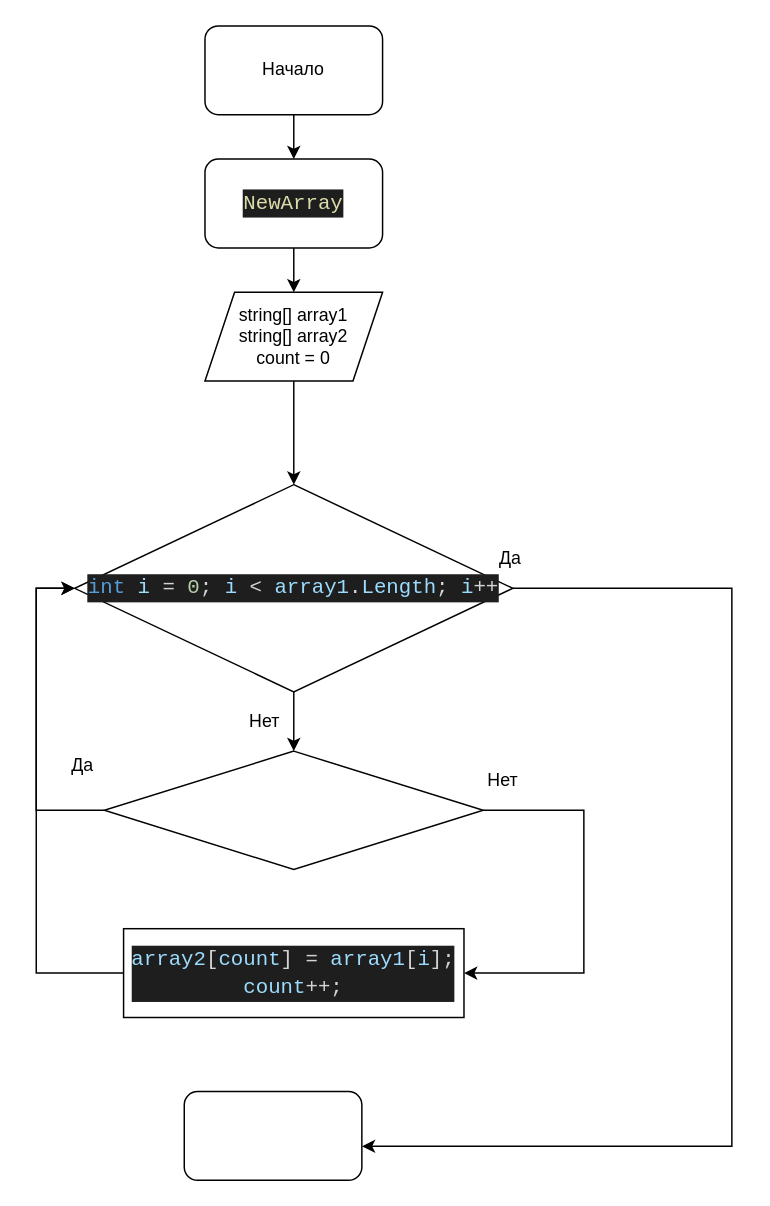
The diagram is 770 pixels wide and 1206 high, and some of its shapes have lost their labels. The shapes that lost their labels are listed below. From the top down, each one's centre as x and y in pixels, then its label:
At (x=293, y=810): "array1 [ i ]. Length <= 3".
At (x=272, y=1135): "Вывод / Конец".
